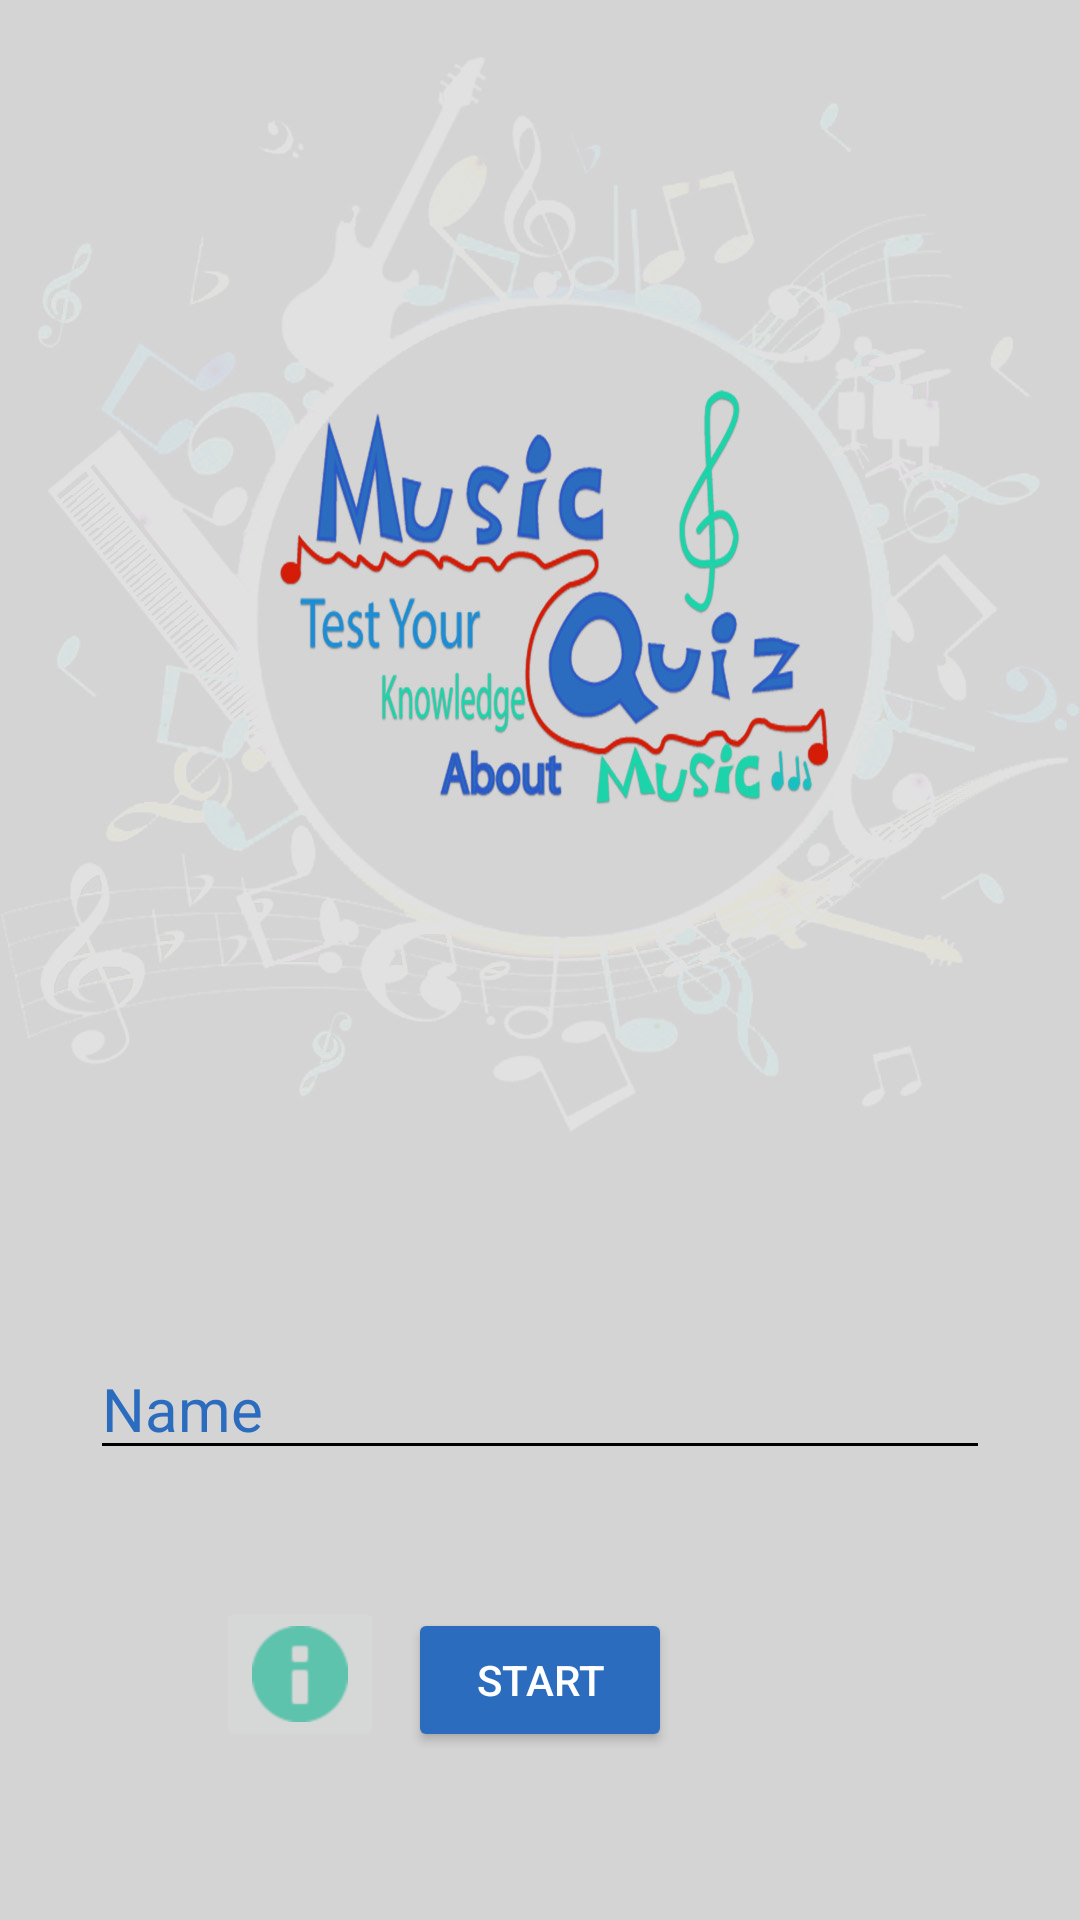

Named icons in this screenshot (1080*1920) and their centers, (x=x, y=y):
info: (x=300, y=1674)
